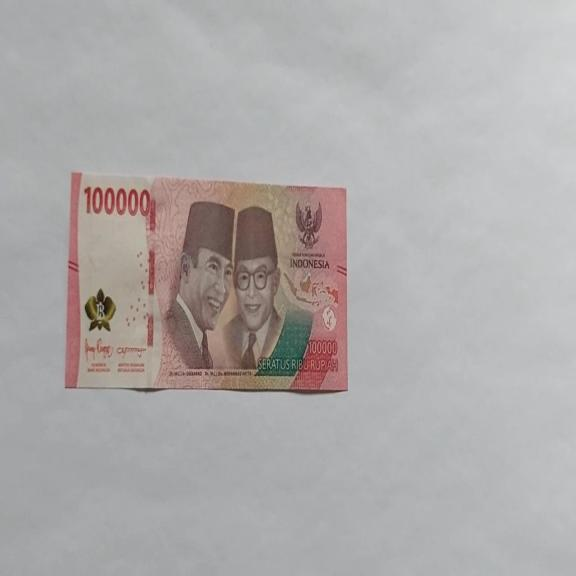Kertas: (65, 170, 348, 394), (82, 182, 152, 218)
